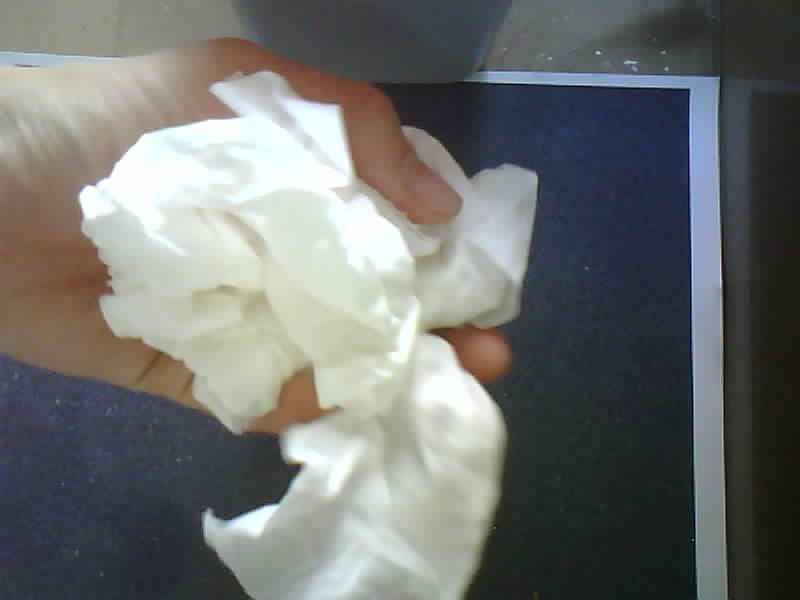paper: (79, 66, 539, 600)
